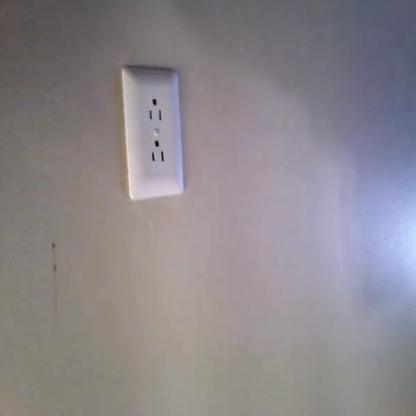OUTLET: (124, 73, 181, 198)
